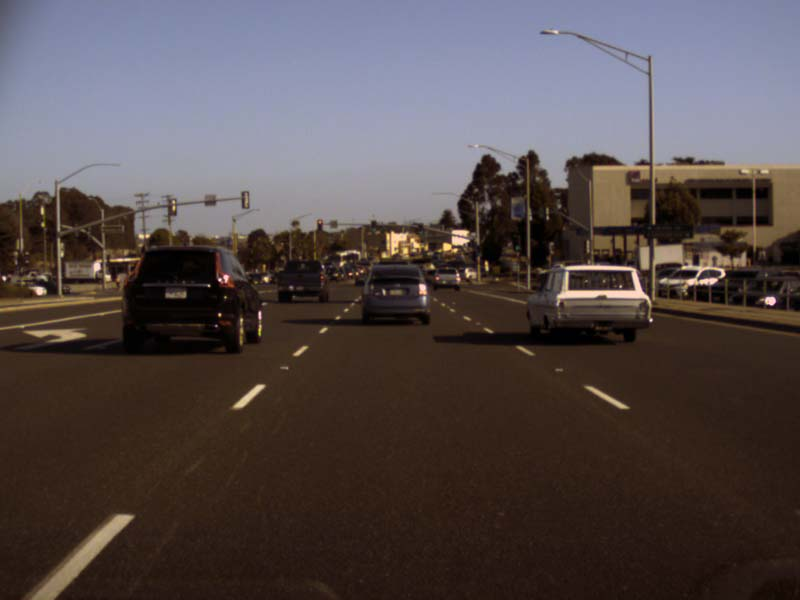Green: (511, 235, 521, 251), (475, 245, 482, 256), (418, 223, 424, 235), (371, 221, 376, 232)
Red: (317, 219, 323, 231)
